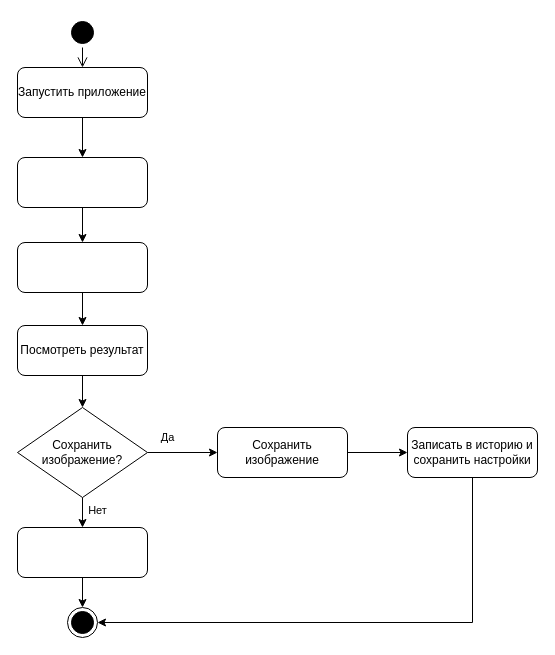
The diagram is 555 pixels wide and 655 high, and some of its shapes have lost their labels. Here are the shapes that lost their labels. From the top down, the centre of each, then its label:
At [82,182]: "Открыть изображение".
At [82,267]: "Обработать изображение".
At [82,552]: "Закрыть приложение".
